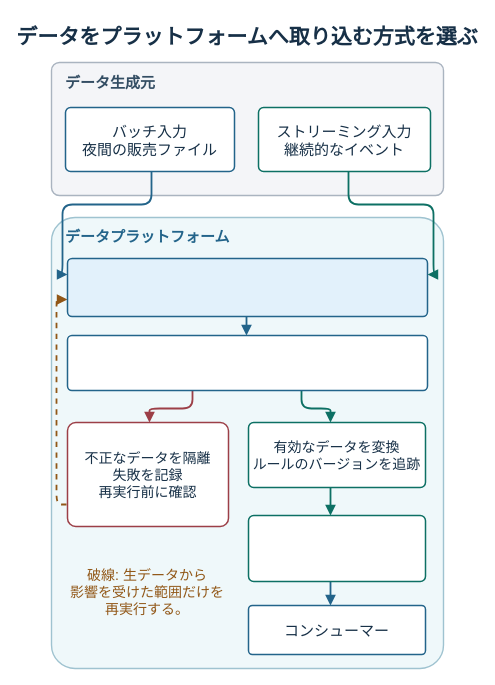
Some shapes in this 495 by 685 pixel diagram are drawn without their labels. The shapes that lost their labels are listed below. From the top down, each one's box as (x1, y1, x2, y2) in pixels, then its label:
(66, 257, 428, 317): 生データを保持 到着時刻付きの元レコード
(66, 334, 428, 391): レコード形式と値を検証
(247, 514, 426, 582): キュレーション済みデータ 承認済み範囲を公開
